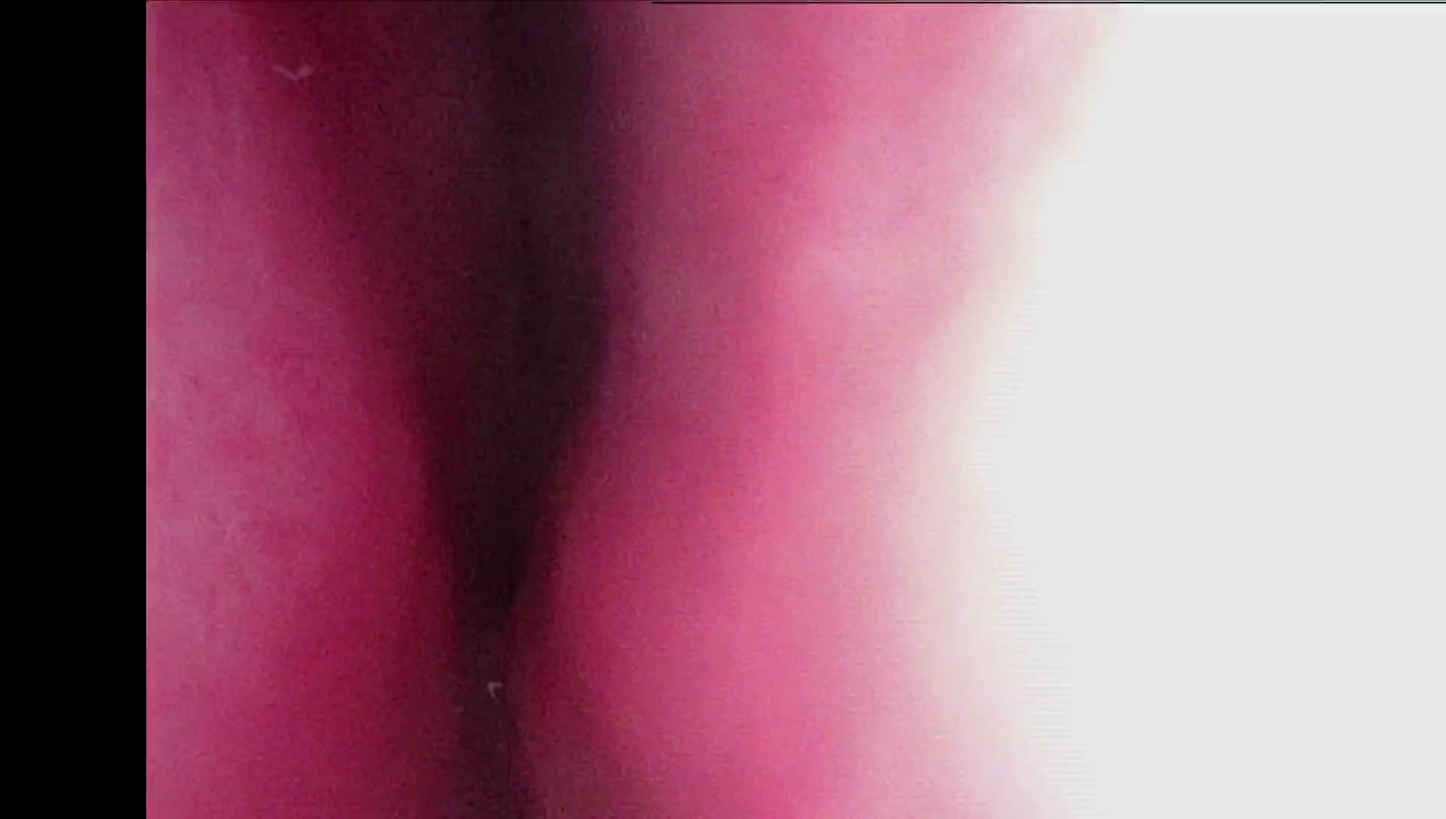close_wall: (745, 8, 1446, 819)
next: (441, 215, 626, 657)
